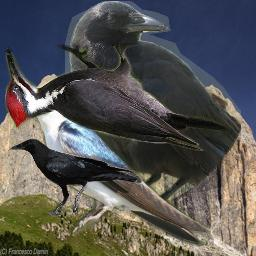Crow: (65, 1, 241, 211), (9, 137, 137, 215)
Swallow: (23, 90, 211, 246)
Woodpecker: (5, 43, 227, 151)
